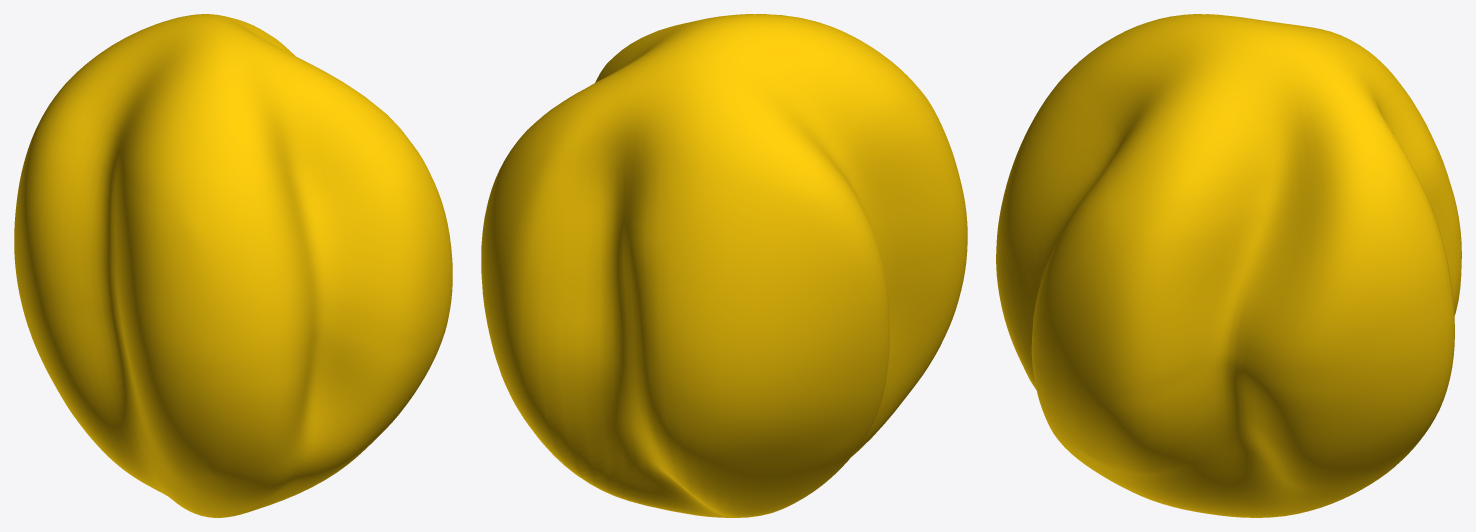
File: anther_1.fbx
The picture shows the model from 3 angles, left to right: view 1: azimuth 30°, elevation 25°; view 2: azimuth 150°, elevation 25°; view 3: azimuth 270°, elevation 25°; orthographic projection. The views are drawn at different scales.
Parts seen in each view (by area): view 1: anther; view 2: anther; view 3: anther.
Part boxes in pixels (x1=…): anther: x1=14, y1=14, x2=452, y2=517; anther: x1=481, y1=14, x2=967, y2=517; anther: x1=996, y1=14, x2=1461, y2=517.
Size of the model in its own units: 2.72 by 3.47 by 3.03.
